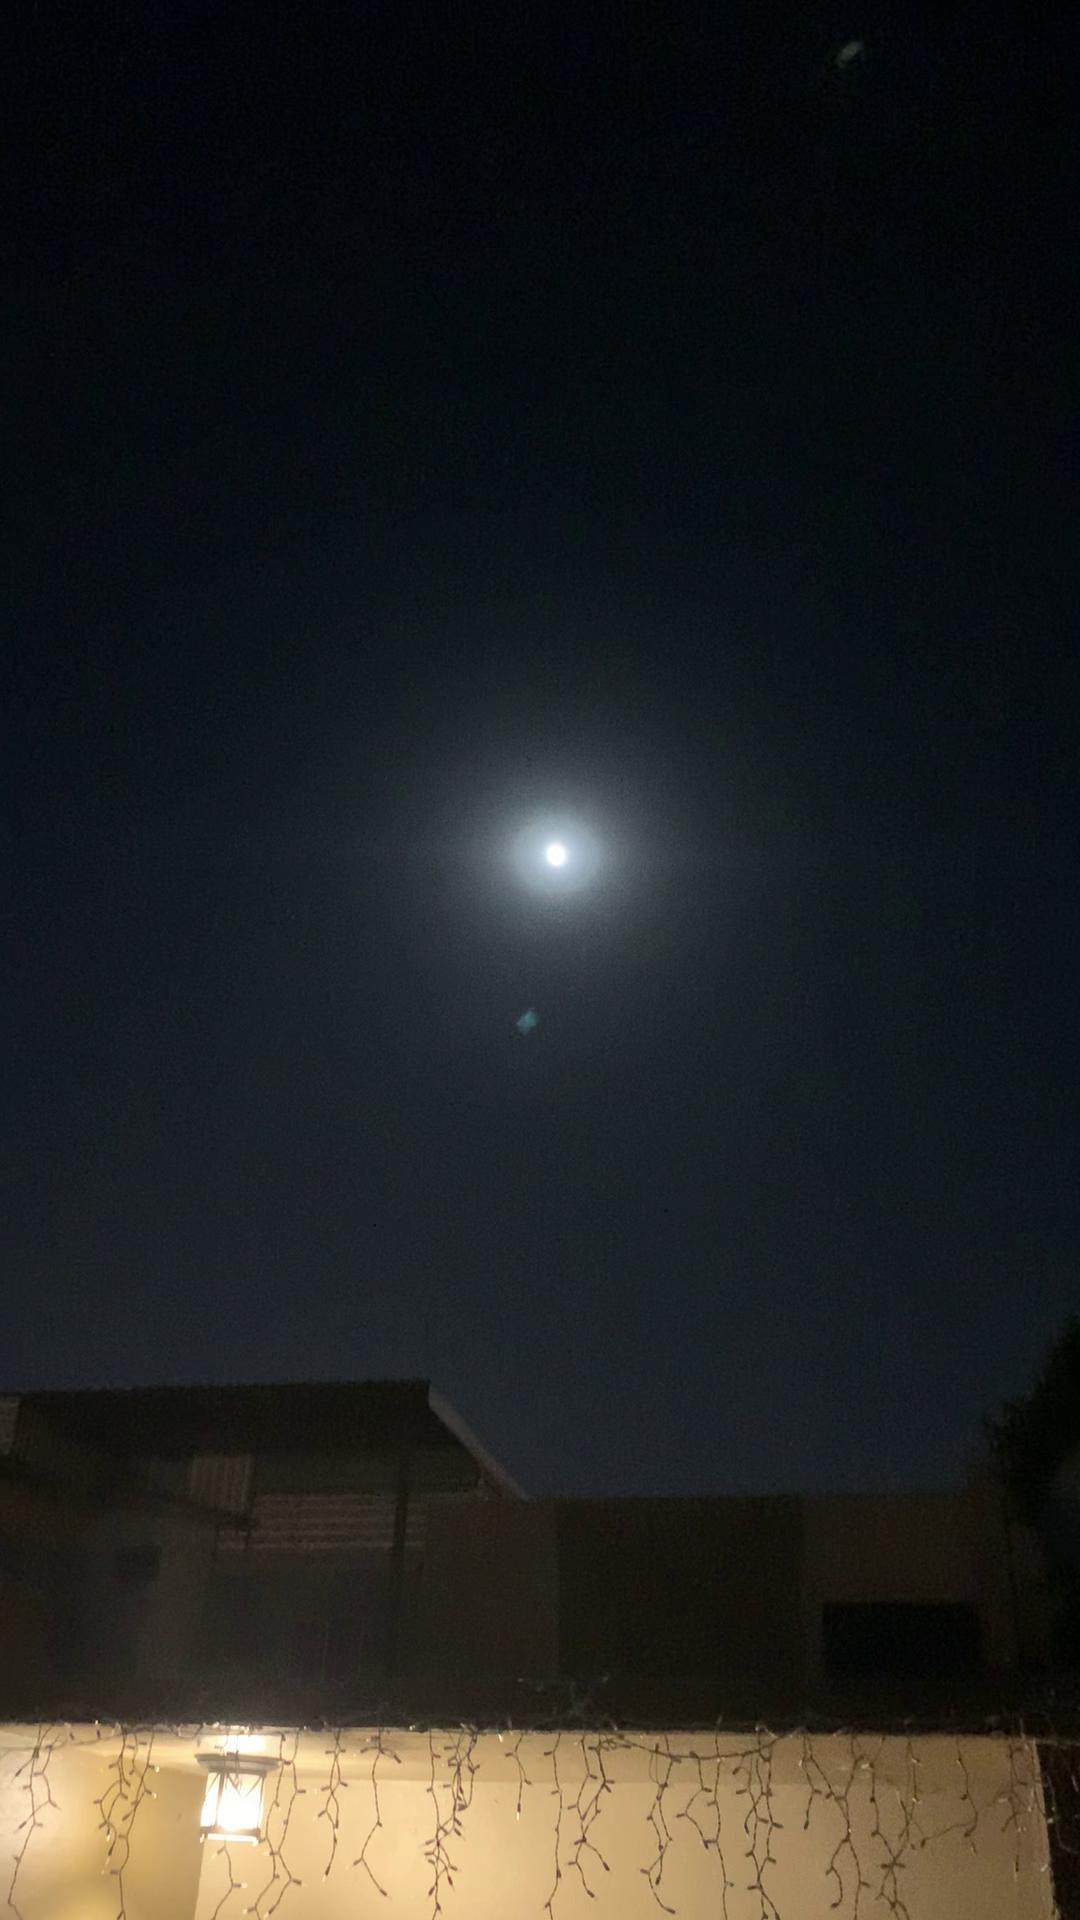moon: (516, 811, 603, 907)
